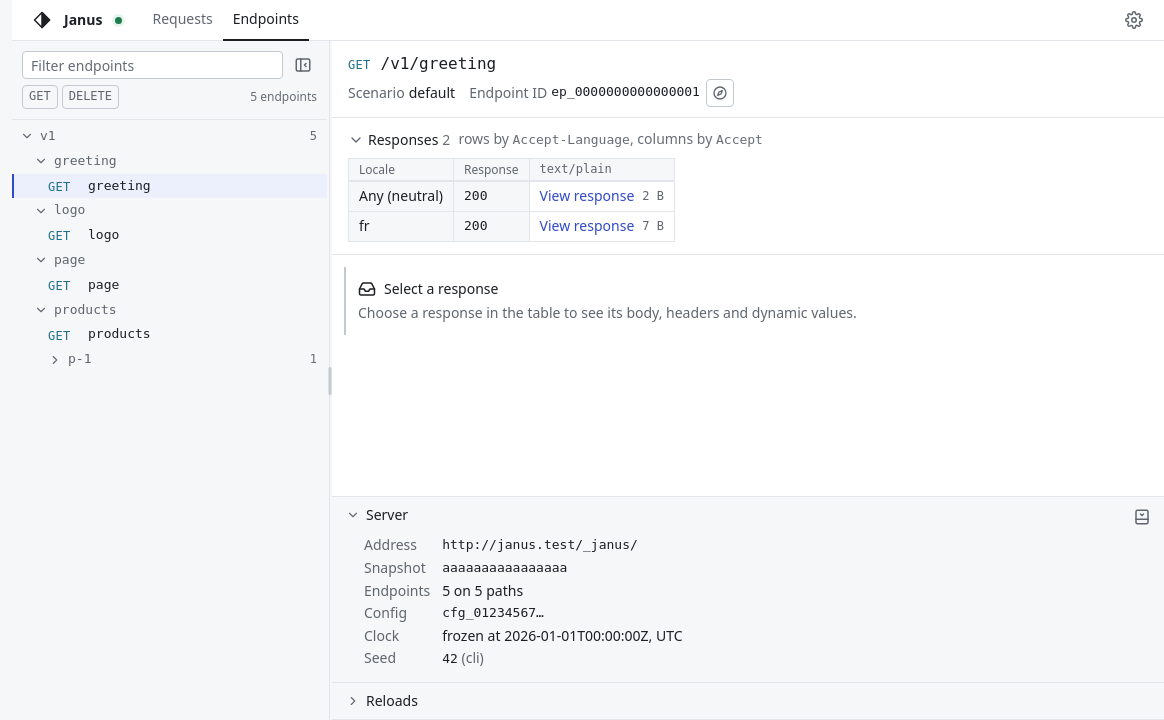
Scenario: panes › puts each fold button in its pane’s first row: the search row and the first inspector section
This screenshot has width=1164, height=720.
Expected: the element named "Try it: simulate GET " reads "ep_0000000000000001", [551,84,700,99]
Expected: the heading "Responses 2" is shown, [348,128,450,152]
What coordinates should you click on to do the following:
click the button named "Fold the details"
I would click on:
 (1142, 517)
Its box is [1128,503,1156,531].
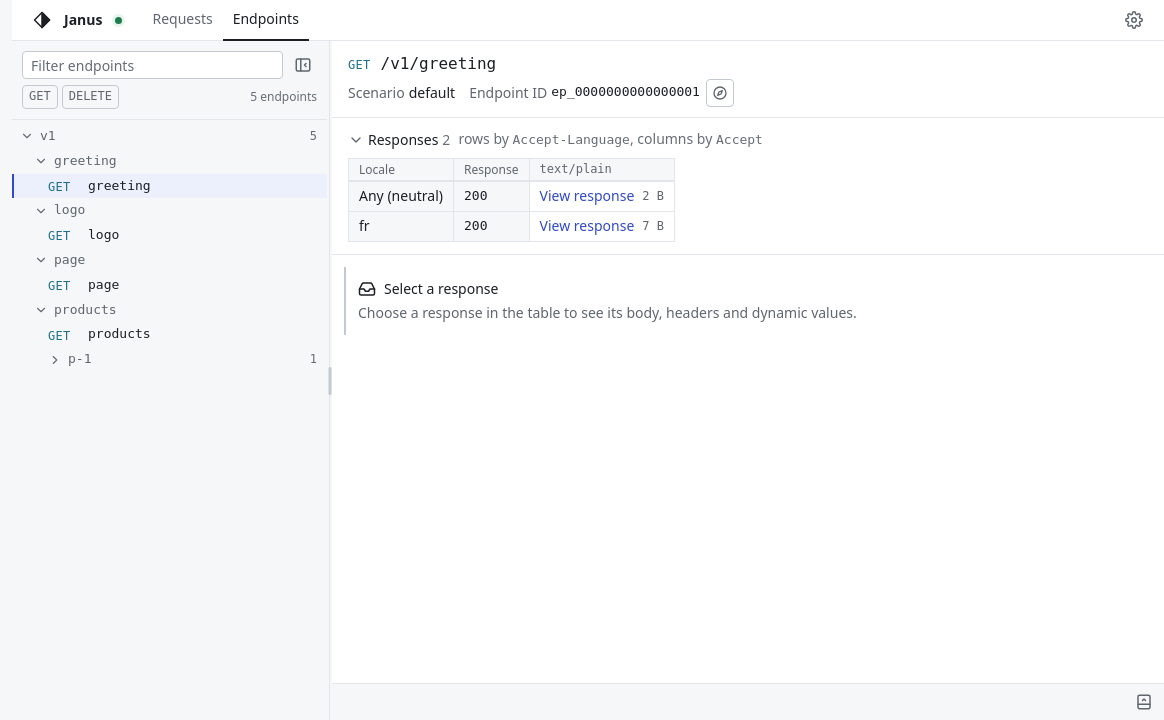
Expected: the button named "Show the details" is collapsed, [1130,688,1158,716]
